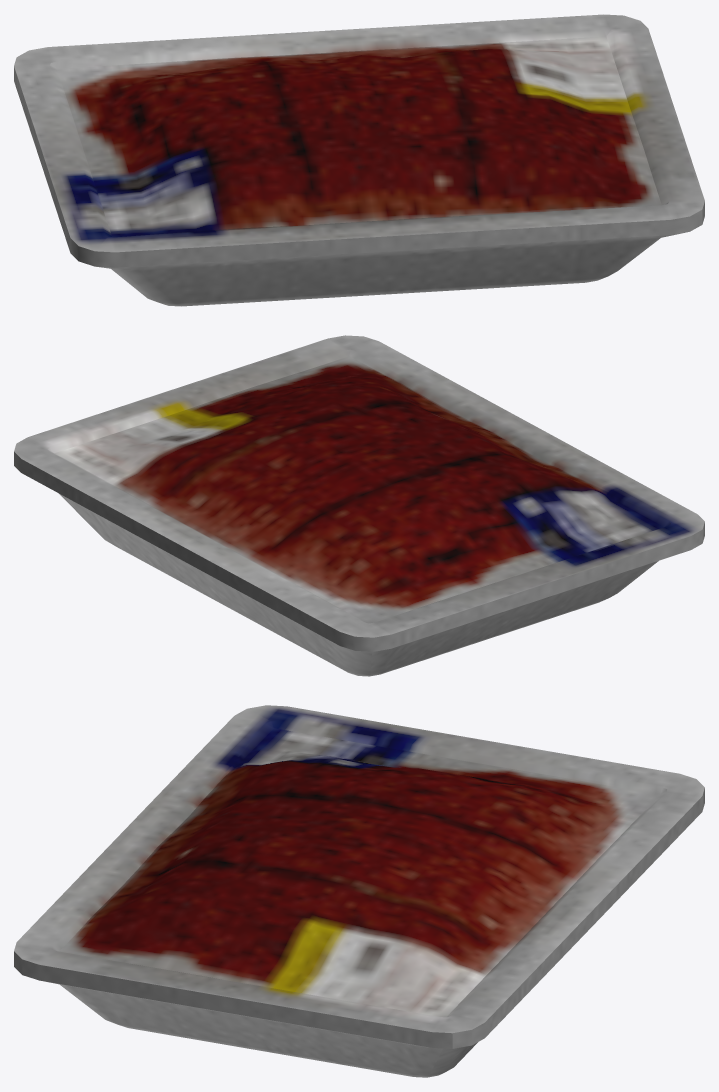
3 views of the same model, one above another, from view 1: azimuth 30°, elevation 25°; view 2: azimuth 150°, elevation 25°; view 3: azimuth 270°, elevation 25° (orthographic). The views are drawn at different scales.
Parts seen in each view (by area): view 1: meat_1; view 2: meat_1; view 3: meat_1.
Part boxes in pixels (bbox=[...]): meat_1: bbox=[14, 14, 704, 306]; meat_1: bbox=[14, 335, 704, 676]; meat_1: bbox=[14, 705, 704, 1077].
Size of the model in its own units: 0.4022 by 0.0752 by 0.3581.
1 material, 1 textured.
